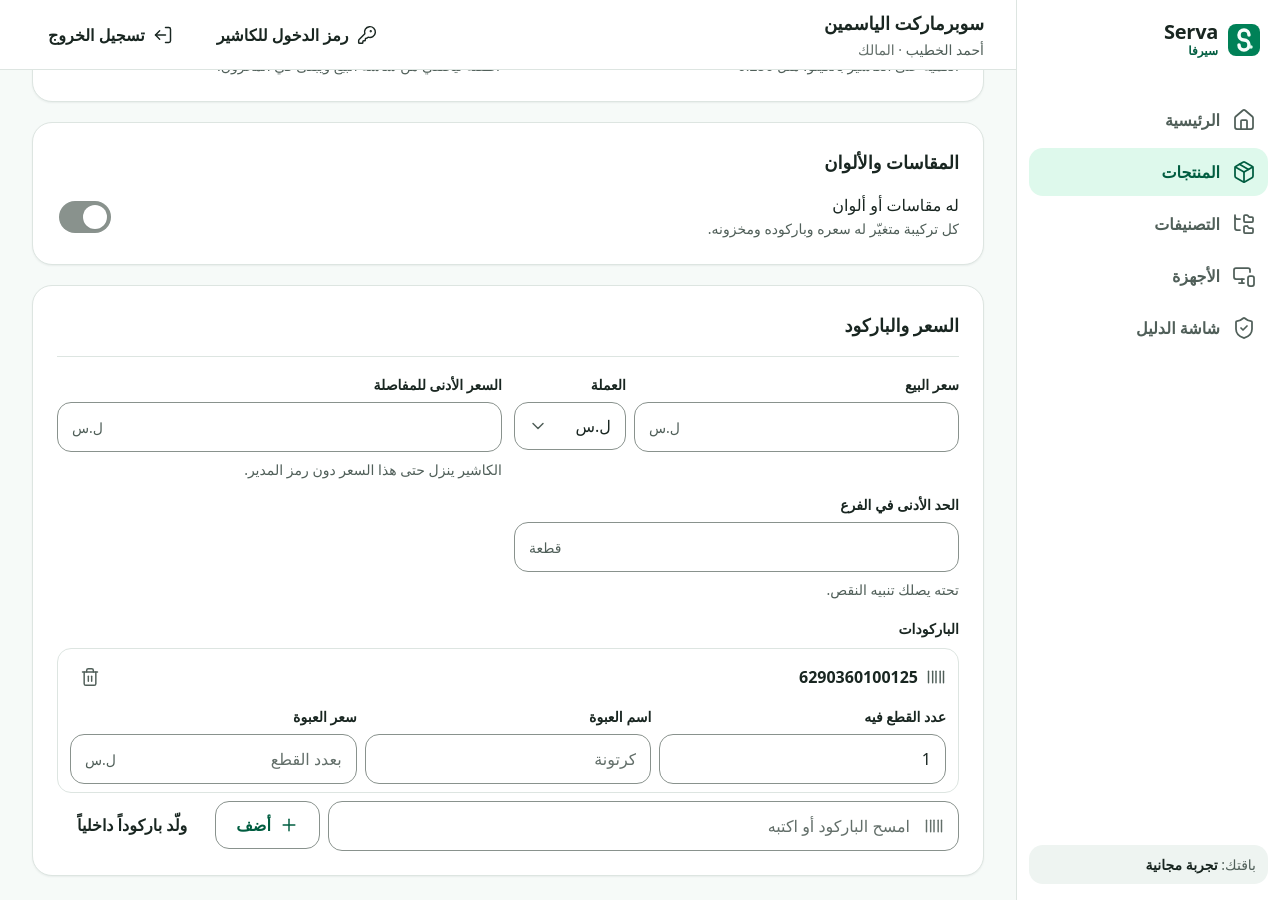
a new product › refuses a malformed or repeated barcode without asking the server
(page scrolled)
Type "12" into the field named "باركود جديد" at x=626, y=826, box [329,802,924,850]
Then press Enter
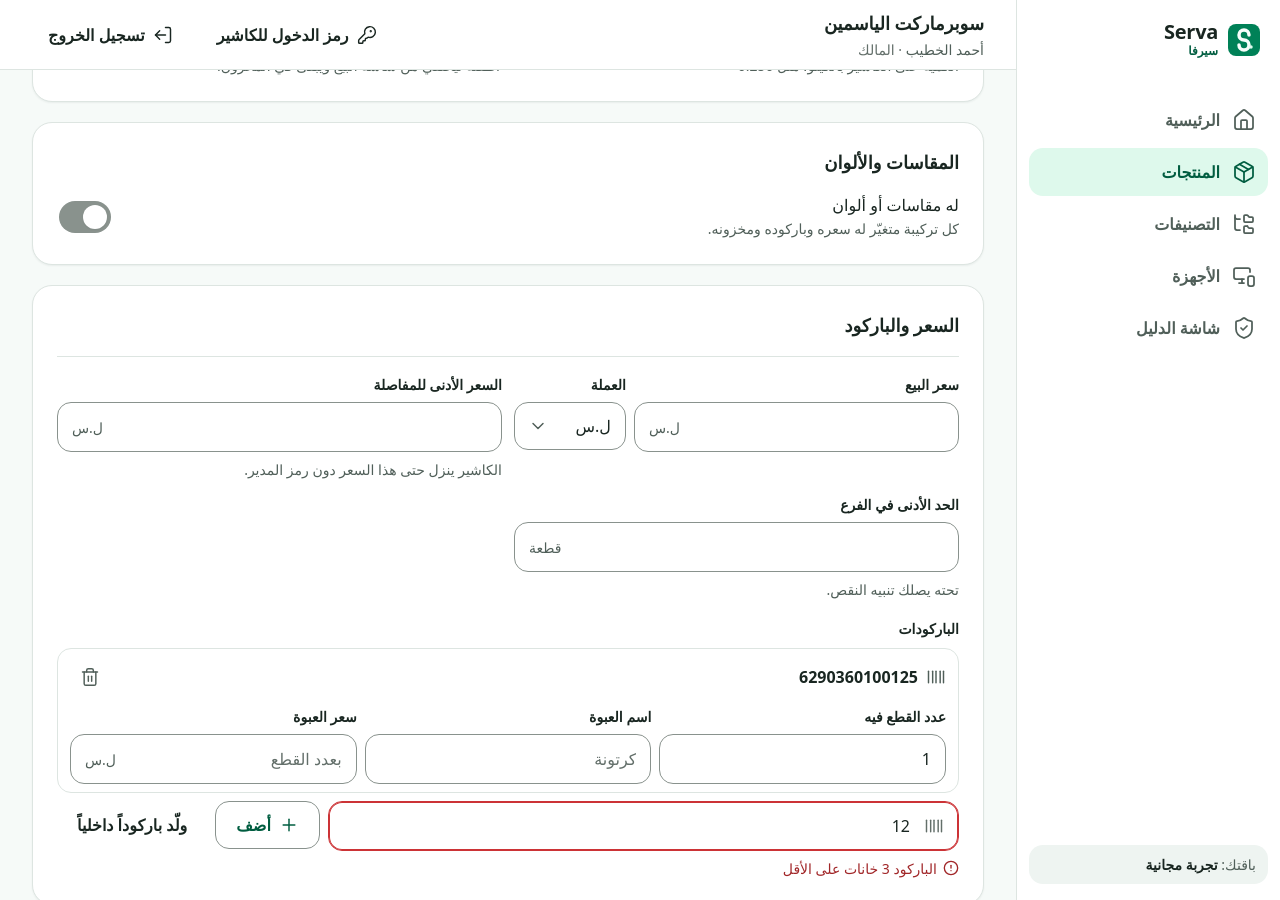
Expected: the text "الباركود 3 خانات على الأقل" is shown, [783,857,937,880]
Replace the text in the field named "باركود جديد" with "٦٢٩٠٣٦٠١٠٠١٢٥" at x=626, y=826, box [329,802,924,850]
Then press Enter
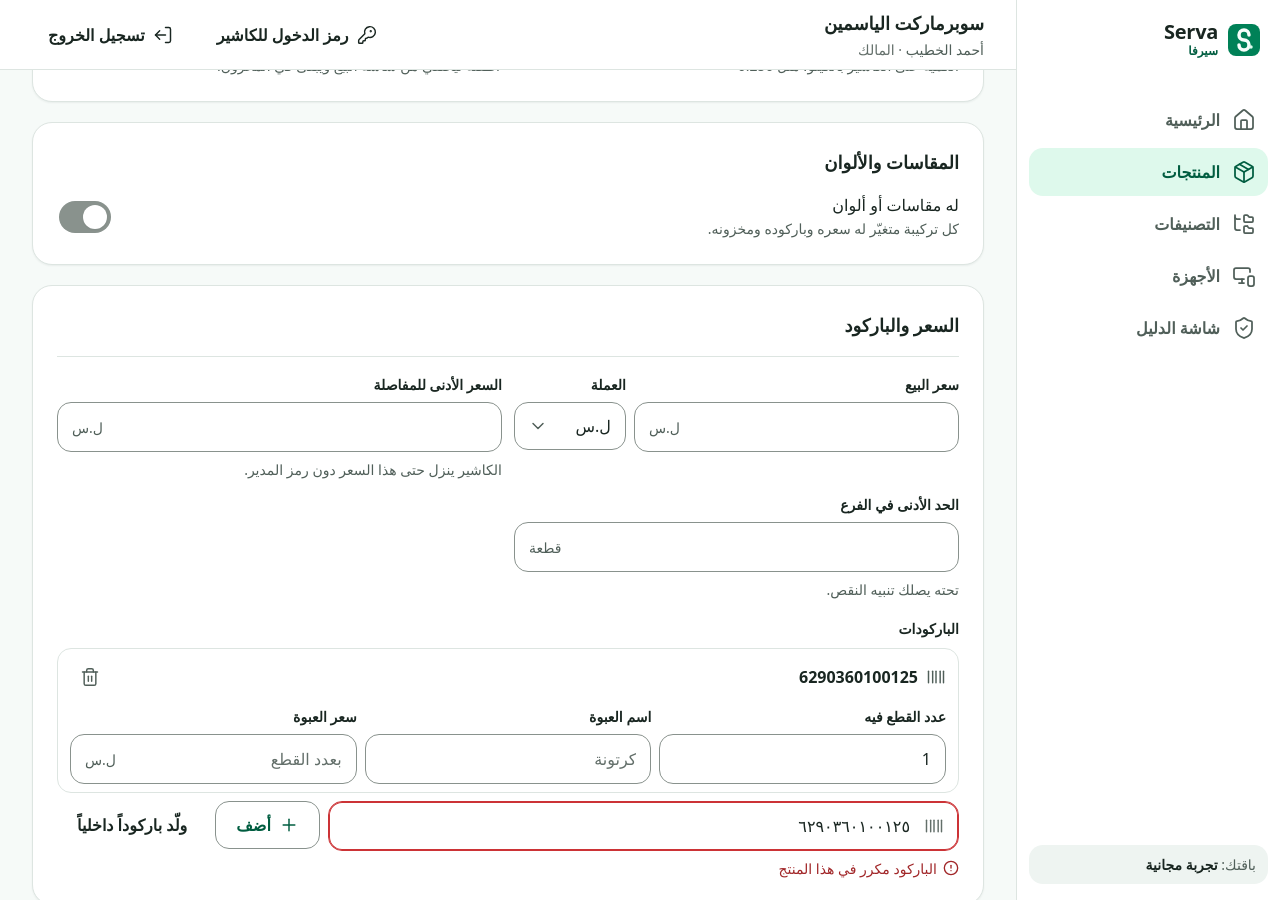
Expected: the text "الباركود مكرر في هذا المنتج" is shown, [778,857,937,880]
